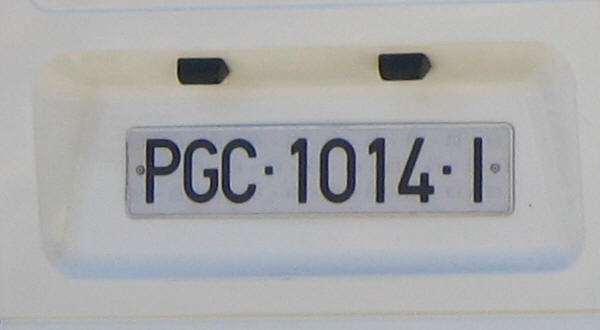license_plate: (125, 121, 515, 216)
